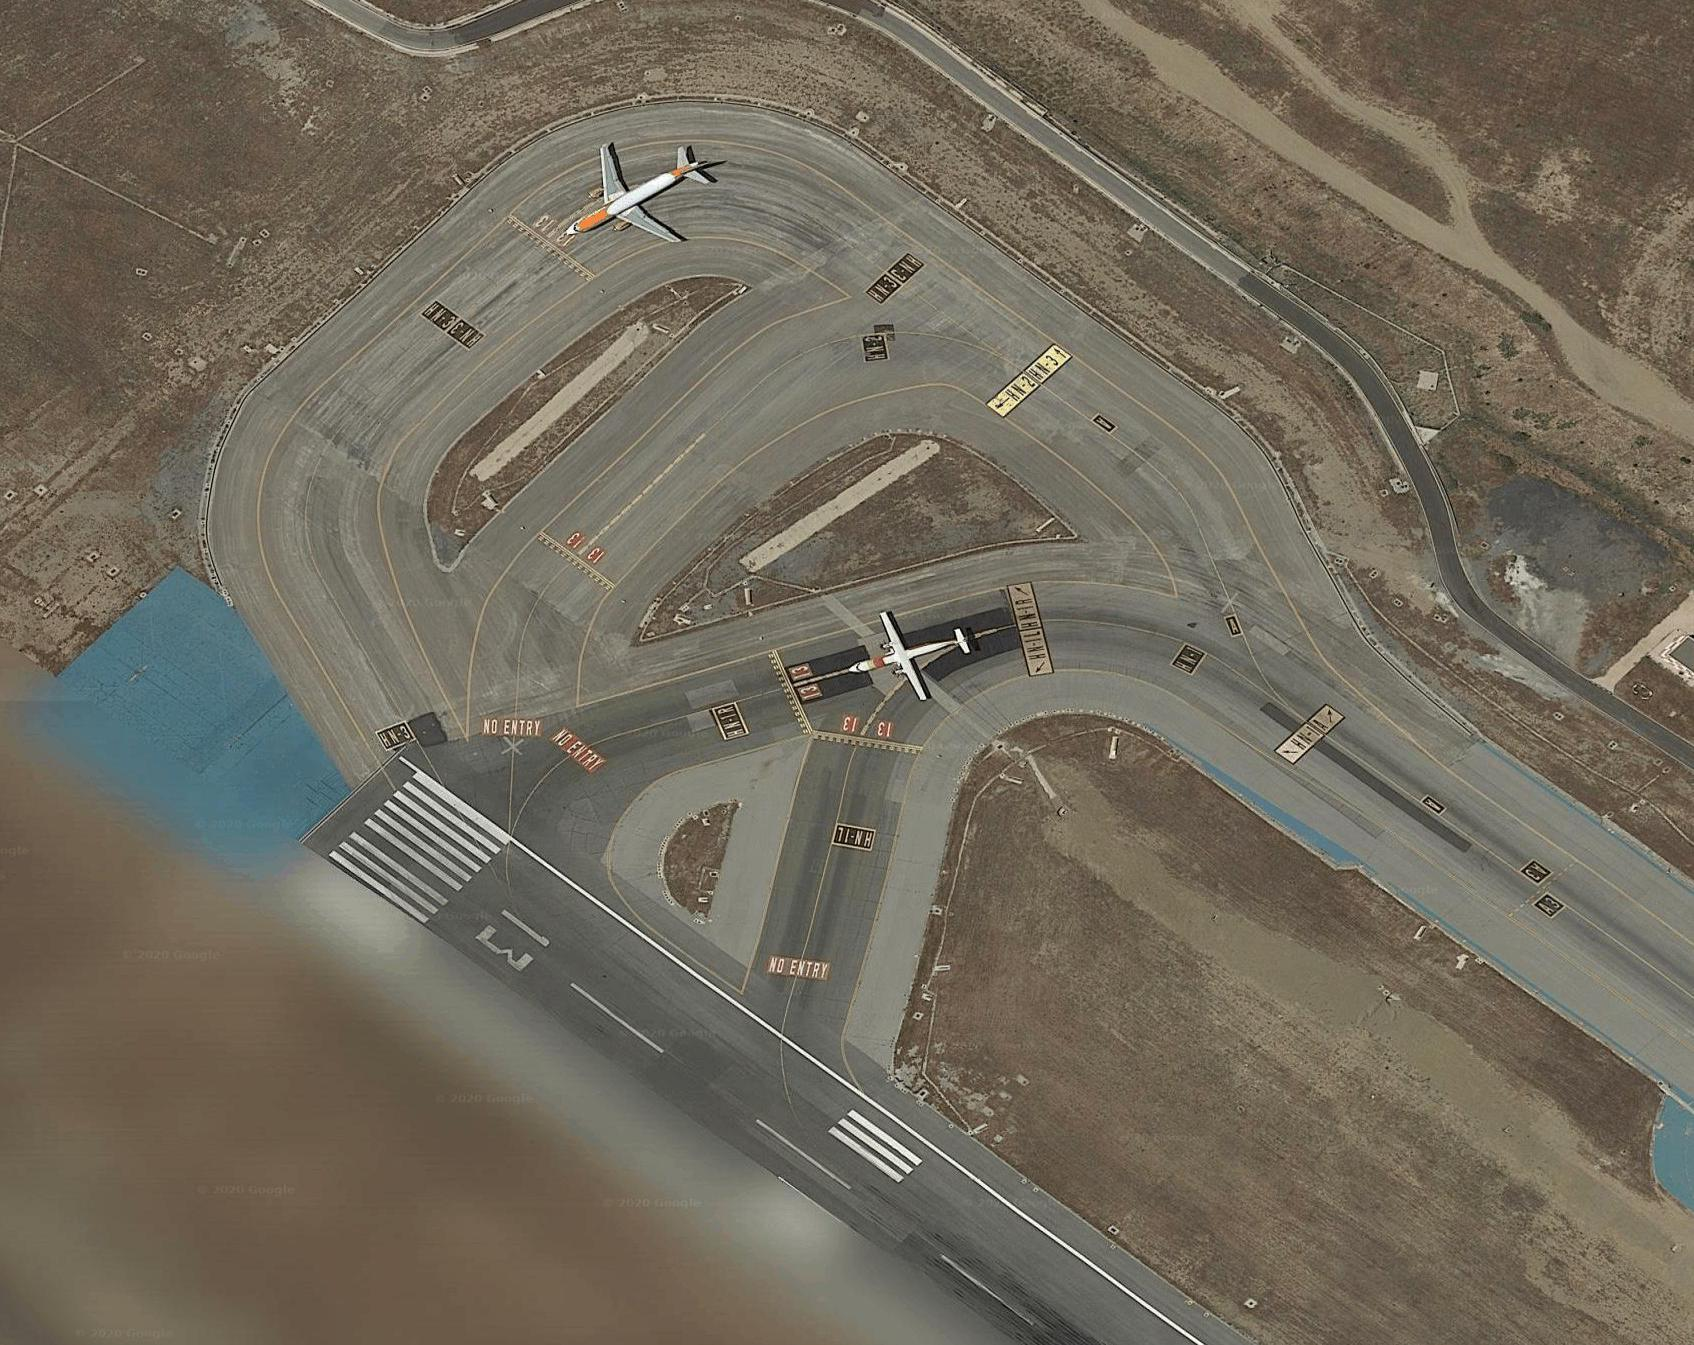plane: (533, 107, 742, 283), (851, 580, 1002, 732)
